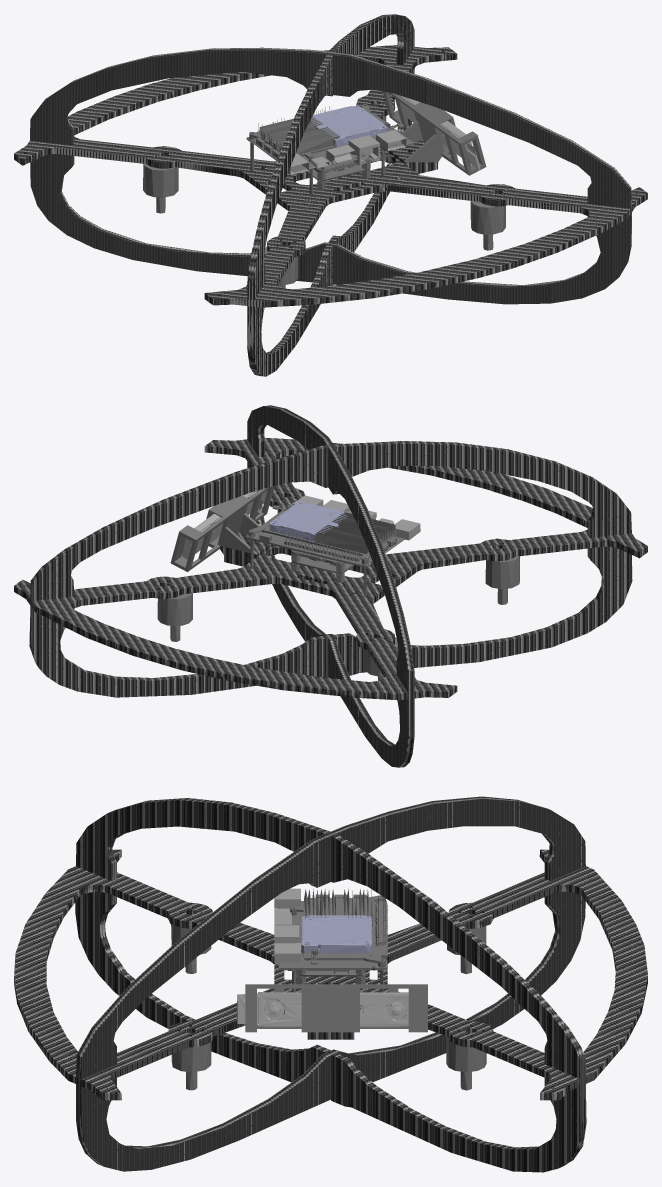
The model's file is rmf.dae.
3 renders of one model, top to bottom at view 1: azimuth 30°, elevation 25°; view 2: azimuth 150°, elevation 25°; view 3: azimuth 270°, elevation 25°, orthographic. The views are drawn at different scales.
Visible parts, largest first — view 1: Rmf With Rings Foam, Rmf With Rings Foam.001, Rmf With Rings Foam.003, Rmf With Rings Foam.002, Rmf With Rings Foam.004; view 2: Rmf With Rings Foam, Rmf With Rings Foam.001, Rmf With Rings Foam.002, Rmf With Rings Foam.003, Rmf With Rings Foam.004; view 3: Rmf With Rings Foam, Rmf With Rings Foam.004, Rmf With Rings Foam.001, Rmf With Rings Foam.002, Rmf With Rings Foam.003.
Part boxes in pixels (box(x1,y1,x2,y2)): Rmf With Rings Foam: box(14, 14, 647, 376); Rmf With Rings Foam.001: box(143, 116, 505, 288); Rmf With Rings Foam.003: box(288, 130, 406, 174); Rmf With Rings Foam.002: box(310, 105, 387, 147); Rmf With Rings Foam.004: box(399, 95, 480, 170); Rmf With Rings Foam: box(14, 405, 647, 767); Rmf With Rings Foam.001: box(157, 509, 519, 680); Rmf With Rings Foam.002: box(269, 502, 347, 541); Rmf With Rings Foam.003: box(293, 495, 420, 540); Rmf With Rings Foam.004: box(181, 490, 267, 559); Rmf With Rings Foam: box(14, 796, 647, 1172); Rmf With Rings Foam.004: box(237, 992, 408, 1026); Rmf With Rings Foam.001: box(171, 924, 486, 1090); Rmf With Rings Foam.002: box(301, 915, 371, 953); Rmf With Rings Foam.003: box(274, 888, 300, 963).
Bounding box in the file's own units: 0.2965 × 0.3262 × 0.1512.
Materials: 5 (1 with a texture image).
